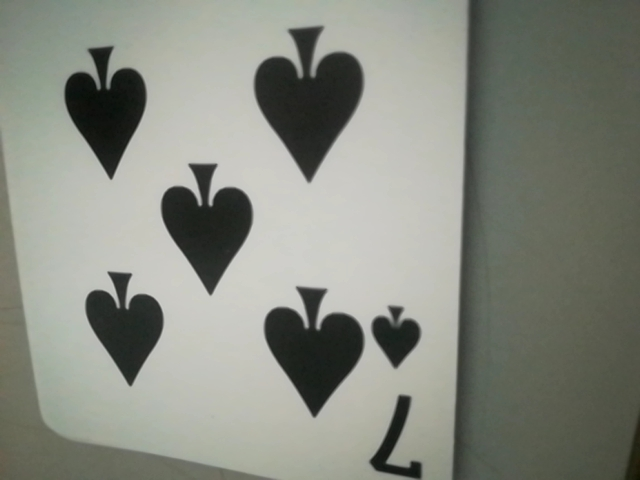ht 7: (371, 301, 430, 478)
